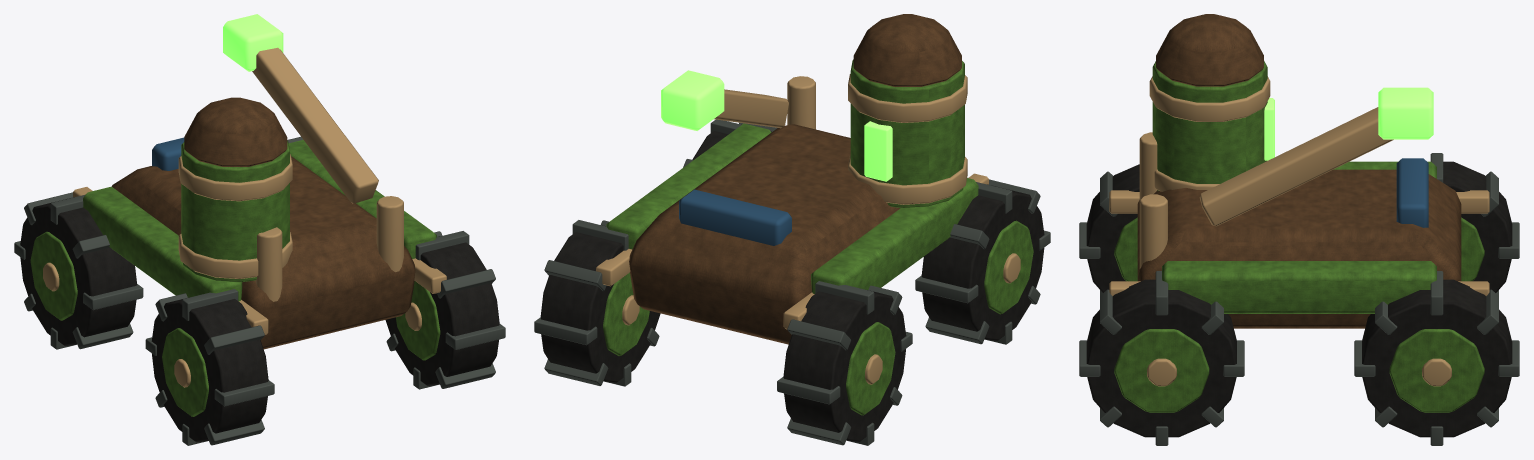
The model's file is vael_guerisseur.gltf.
The picture shows the model from 3 angles, left to right: view 1: azimuth 30°, elevation 25°; view 2: azimuth 150°, elevation 25°; view 3: azimuth 270°, elevation 25°; orthographic projection. The views are drawn at different scales.
Parts seen in each view (by area): view 1: Root.026_Geometry, Wheel_-0.6554999999999999_-0.006_Geometry, Wheel_-0.6554999999999999_0.006_Geometry, Wheel_0.6554999999999999_-0.006_Geometry, Arm_0.002_Geometry; view 2: Root.026_Geometry, Wheel_-0.6554999999999999_0.006_Geometry, Wheel_-0.6554999999999999_-0.006_Geometry, Wheel_0.6554999999999999_0.006_Geometry, Arm_0.002_Geometry, Wheel_0.6554999999999999_-0.006_Geometry; view 3: Root.026_Geometry, Wheel_0.6554999999999999_0.006_Geometry, Wheel_0.6554999999999999_-0.006_Geometry, Arm_0.002_Geometry, Wheel_-0.6554999999999999_0.006_Geometry, Wheel_-0.6554999999999999_-0.006_Geometry.
Boxes of the visible parts, x1,y1,x2,y2 form: Root.026_Geometry: (73,97,446,349); Wheel_-0.6554999999999999_-0.006_Geometry: (145,289,274,445); Wheel_-0.6554999999999999_0.006_Geometry: (14,192,143,349); Wheel_0.6554999999999999_-0.006_Geometry: (385,231,505,389); Arm_0.002_Geometry: (223,14,378,203); Root.026_Geometry: (596,14,988,344); Wheel_-0.6554999999999999_0.006_Geometry: (777,281,912,445); Wheel_-0.6554999999999999_-0.006_Geometry: (915,179,1050,344); Wheel_0.6554999999999999_0.006_Geometry: (534,220,660,386); Arm_0.002_Geometry: (661,70,788,130); Wheel_0.6554999999999999_-0.006_Geometry: (683,119,777,167); Root.026_Geometry: (1109,14,1489,328); Wheel_0.6554999999999999_0.006_Geometry: (1354,271,1519,445); Wheel_0.6554999999999999_-0.006_Geometry: (1079,271,1244,445); Arm_0.002_Geometry: (1199,87,1433,226); Wheel_-0.6554999999999999_0.006_Geometry: (1430,153,1519,295); Wheel_-0.6554999999999999_-0.006_Geometry: (1079,164,1139,295).
Bounding box in the file's own units: 1.65 × 1.66 × 2.07.
Materials: 7 (3 with a texture image).
